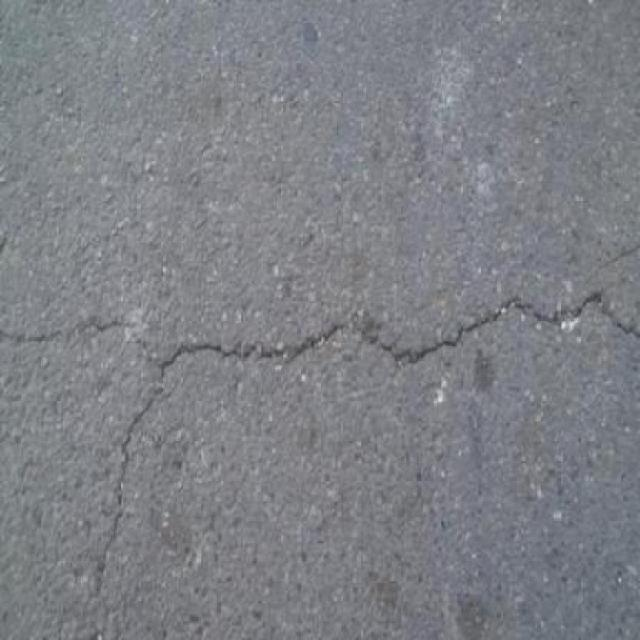GRIETA: (157, 291, 639, 370), (96, 390, 160, 592), (0, 318, 124, 343)
